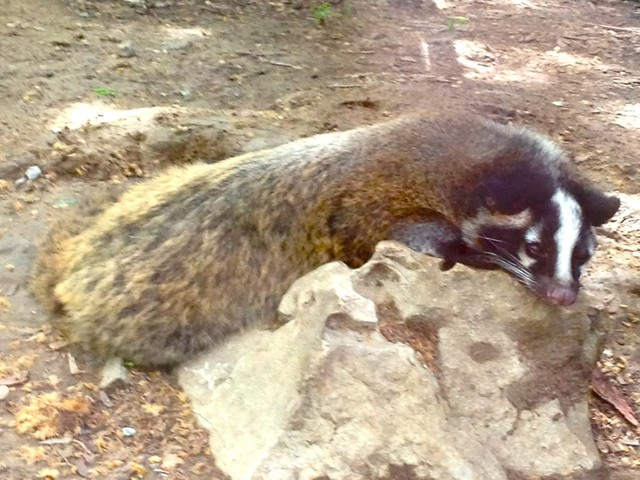civet: (54, 103, 622, 370)
